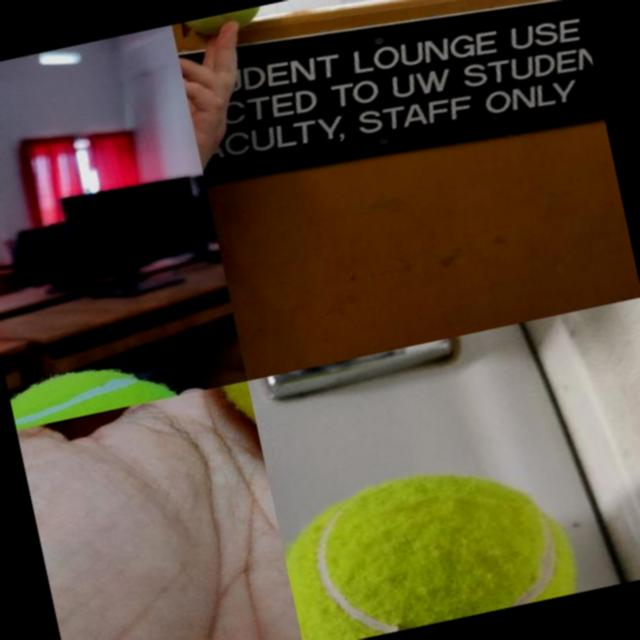tennis-ball: (272, 442, 584, 640), (179, 4, 268, 44)
